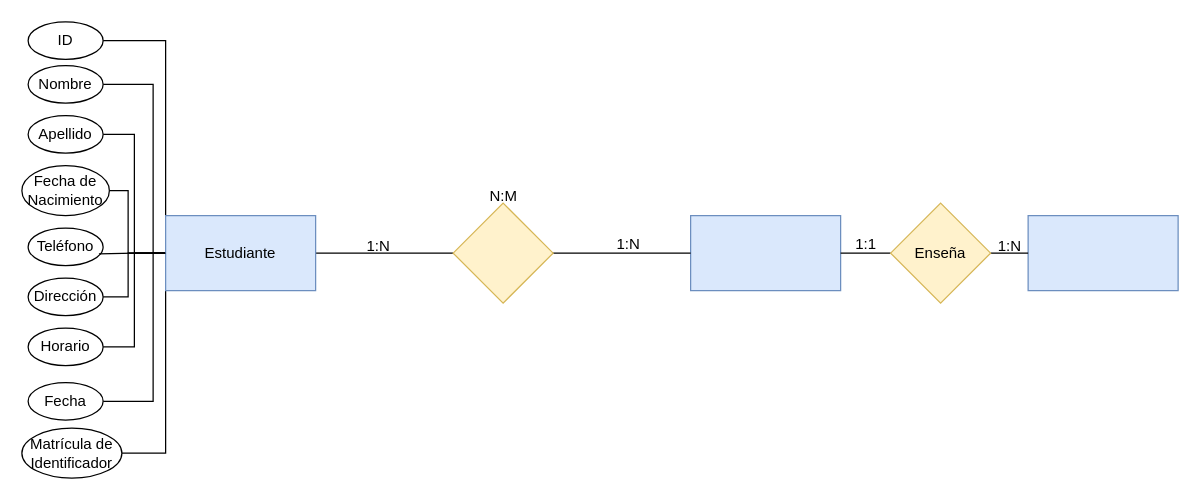
Image size: 1200x500. Some labels were removed from this diagram. The shapes that lost their labels are listed below. From the top down, each one's box as (x1, y1, x2, y2) in pixels, then its label:
(452, 202, 553, 303): Matricular
(689, 214, 841, 291): Curso
(1027, 214, 1178, 291): Profesor
